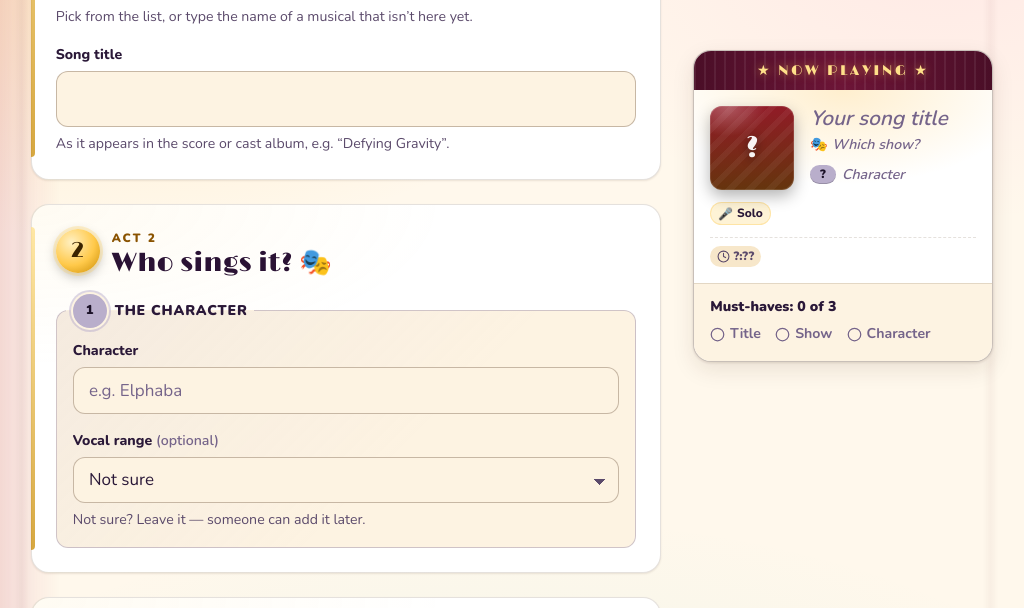
Scenario: SongFormPage — add › solo ↔ duet toggles part 2 and keeps part 1 (and the stashed part 2)
This screenshot has width=1024, height=608.
(page scrolled)
Type "Elphaba" into the field with test id "part-1-character" at {"x": 346, "y": 390}, box [73,367,619,414]
(page scrolled)
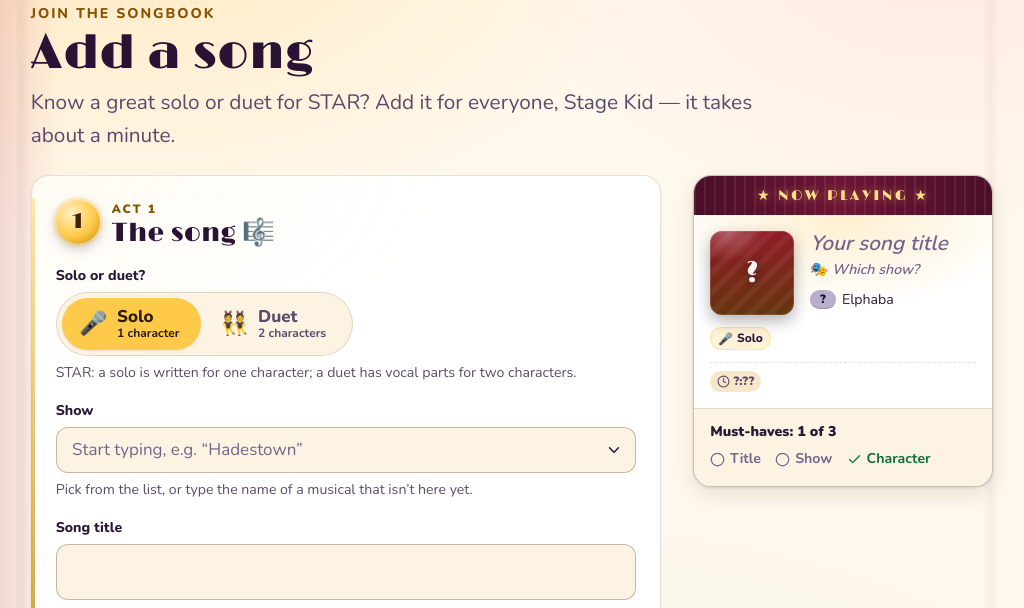
Click the radio button with test id "song-kind-duet" at {"x": 275, "y": 324}, box [203,298,348,350]
(page scrolled)
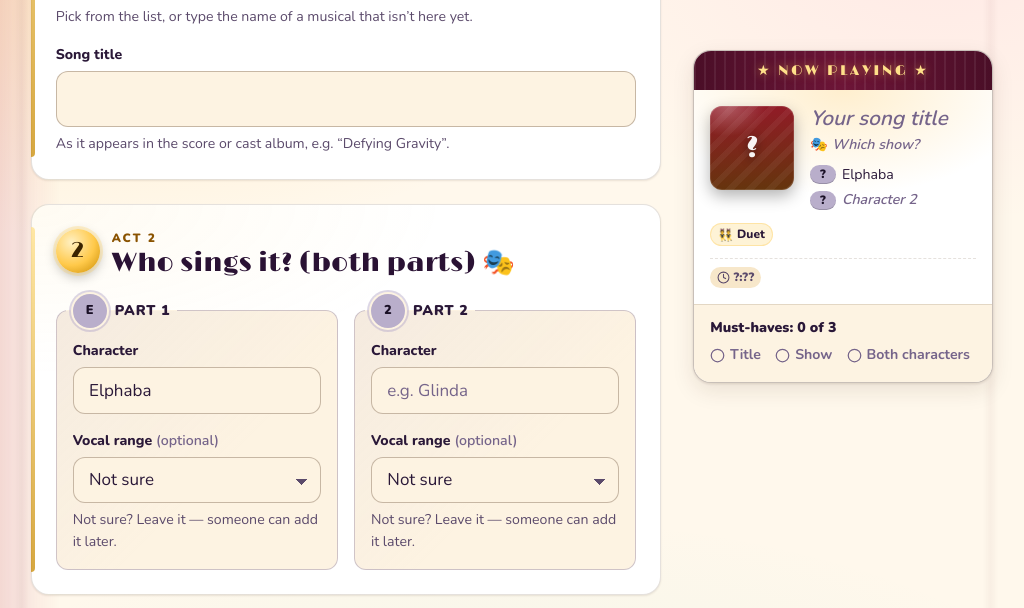
Type "Glinda" into the field with test id "part-2-character" at {"x": 495, "y": 390}, box [371,367,619,414]
(page scrolled)
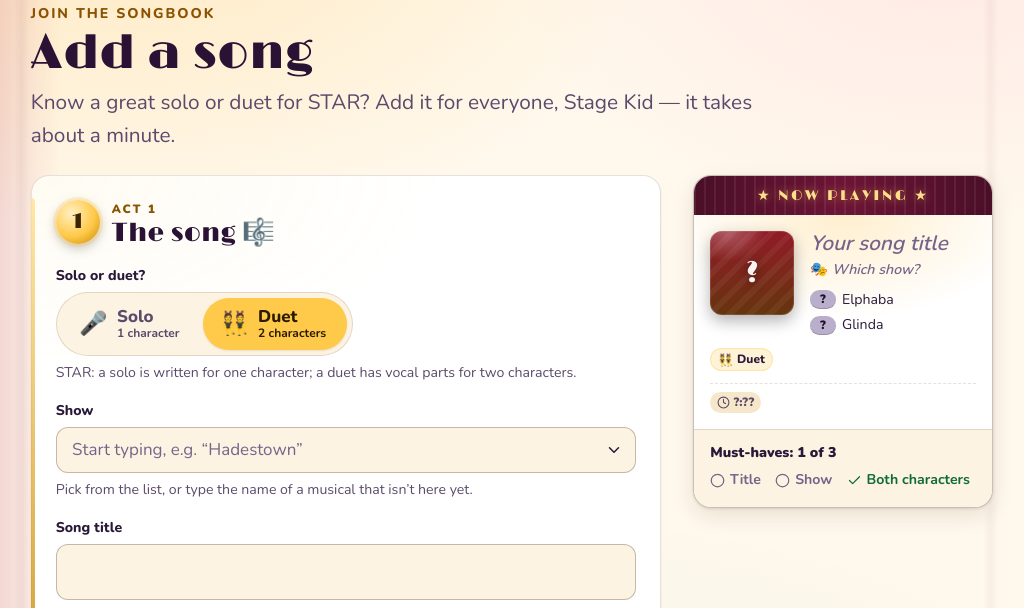
Click the radio button with test id "song-kind-solo" at {"x": 131, "y": 324}, box [62,298,201,350]
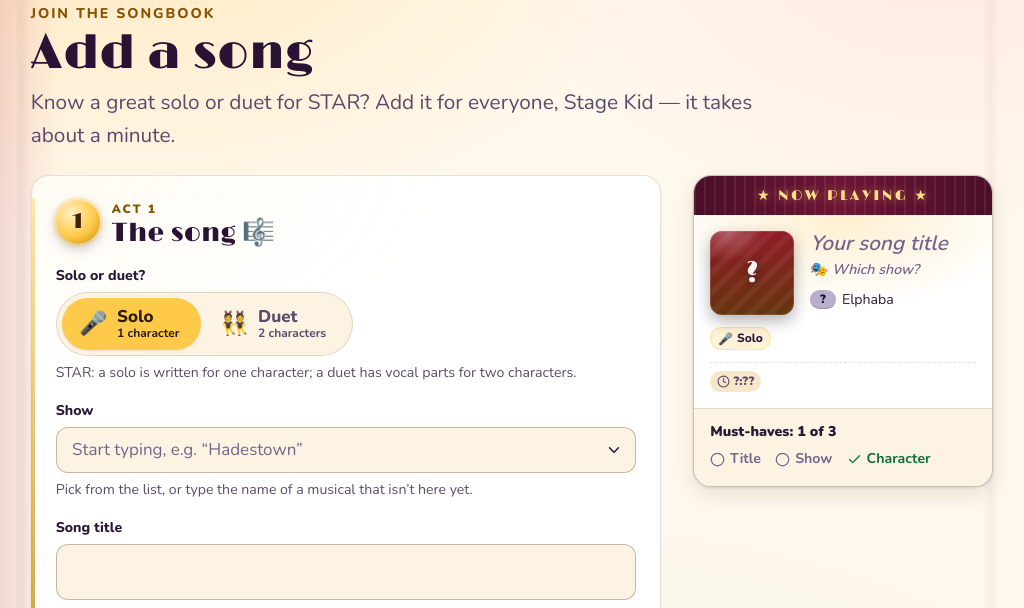
Click the radio button with test id "song-kind-duet" at {"x": 275, "y": 324}, box [203,298,348,350]
(page scrolled)
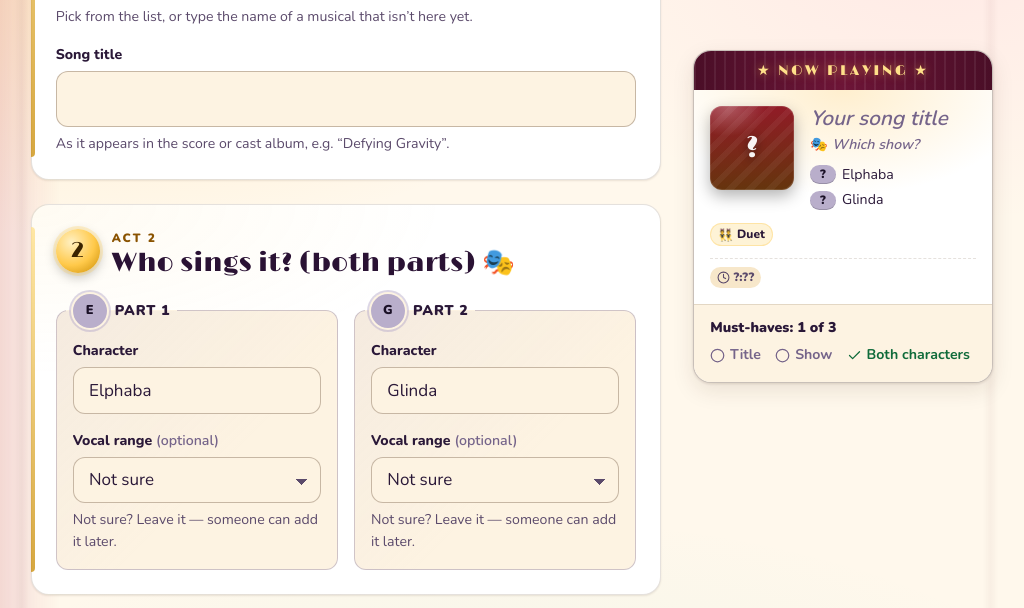
Expected: the field with test id "part-2-character" holds "Glinda", [371,367,619,414]
